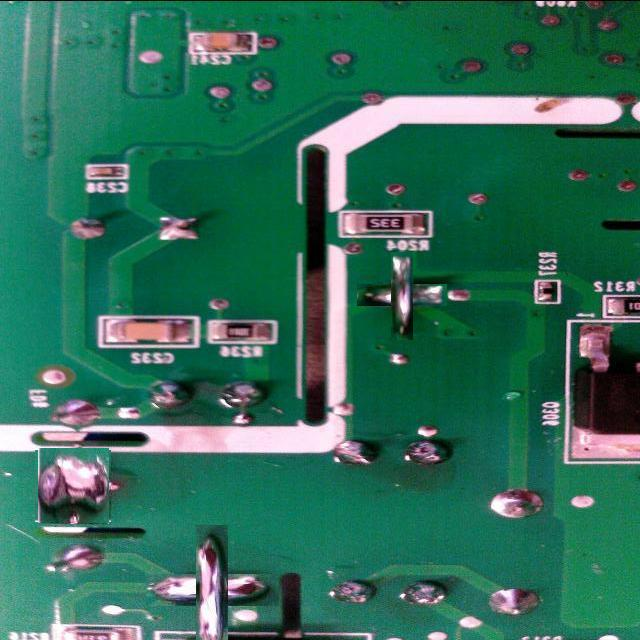Short_circuit: (171, 549, 254, 632), (36, 449, 110, 523), (374, 267, 430, 323)
